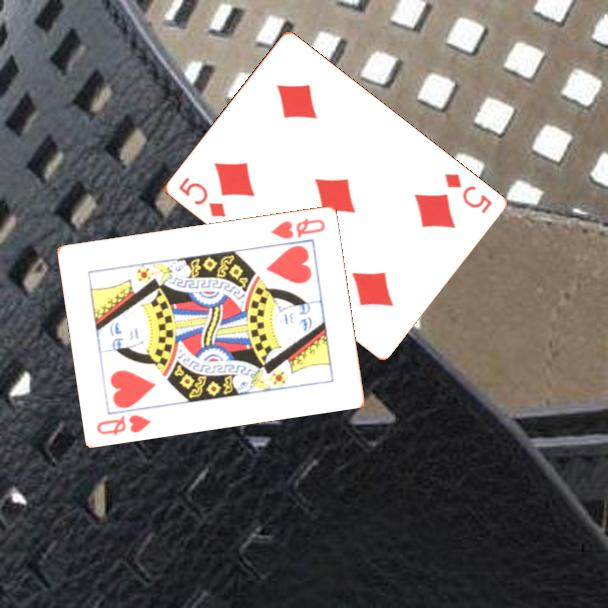d05: (440, 170, 495, 217), (175, 174, 228, 220)
h12: (93, 411, 154, 438), (268, 215, 328, 242)
